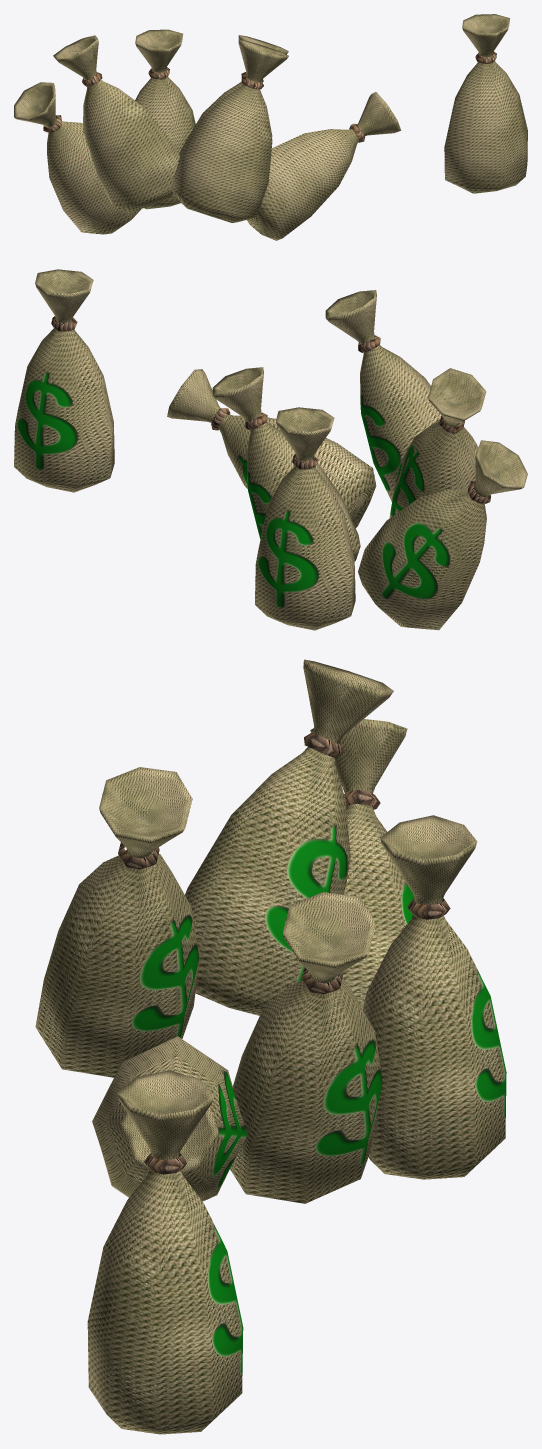
The model's file is Bolsas.FBX.
The picture shows the model from 3 angles, top to bottom: view 1: azimuth 30°, elevation 25°; view 2: azimuth 150°, elevation 25°; view 3: azimuth 270°, elevation 25°; orthographic projection. The views are drawn at different scales.
Visible parts, largest first — view 1: Bolsa Dinero006, Bolsa Dinero, Bolsa Dinero003, Bolsa Dinero005, Bolsa Dinero002, Bolsa Dinero001, Bolsa Dinero004; view 2: Bolsa Dinero002, Bolsa Dinero001, Bolsa Dinero, Bolsa Dinero006, Bolsa Dinero003, Bolsa Dinero005, Bolsa Dinero004; view 3: Bolsa Dinero, Bolsa Dinero001, Bolsa Dinero006, Bolsa Dinero004, Bolsa Dinero003, Bolsa Dinero005, Bolsa Dinero002.
Boxes of the visible parts, x1,y1,x2,y2 form: Bolsa Dinero006: (170,39,288,222); Bolsa Dinero: (444,14,527,193); Bolsa Dinero003: (53,35,179,212); Bolsa Dinero005: (247,92,401,240); Bolsa Dinero002: (14,82,141,234); Bolsa Dinero001: (135,29,195,209); Bolsa Dinero004: (179,35,288,156); Bolsa Dinero002: (358,440,527,630); Bolsa Dinero001: (255,407,355,630); Bolsa Dinero: (14,269,114,492); Bolsa Dinero006: (325,290,441,501); Bolsa Dinero003: (389,368,486,518); Bolsa Dinero005: (167,369,376,527); Bolsa Dinero004: (212,367,360,561); Bolsa Dinero: (87,1070,243,1434); Bolsa Dinero001: (363,815,506,1179); Bolsa Dinero006: (35,767,199,1077); Bolsa Dinero004: (230,892,382,1203); Bolsa Dinero003: (185,659,393,1015); Bolsa Dinero005: (92,1036,247,1201); Bolsa Dinero002: (310,719,414,1009).
Size of the model in its own units: 133 by 57.51 by 58.84.
3 materials, 3 textured.
